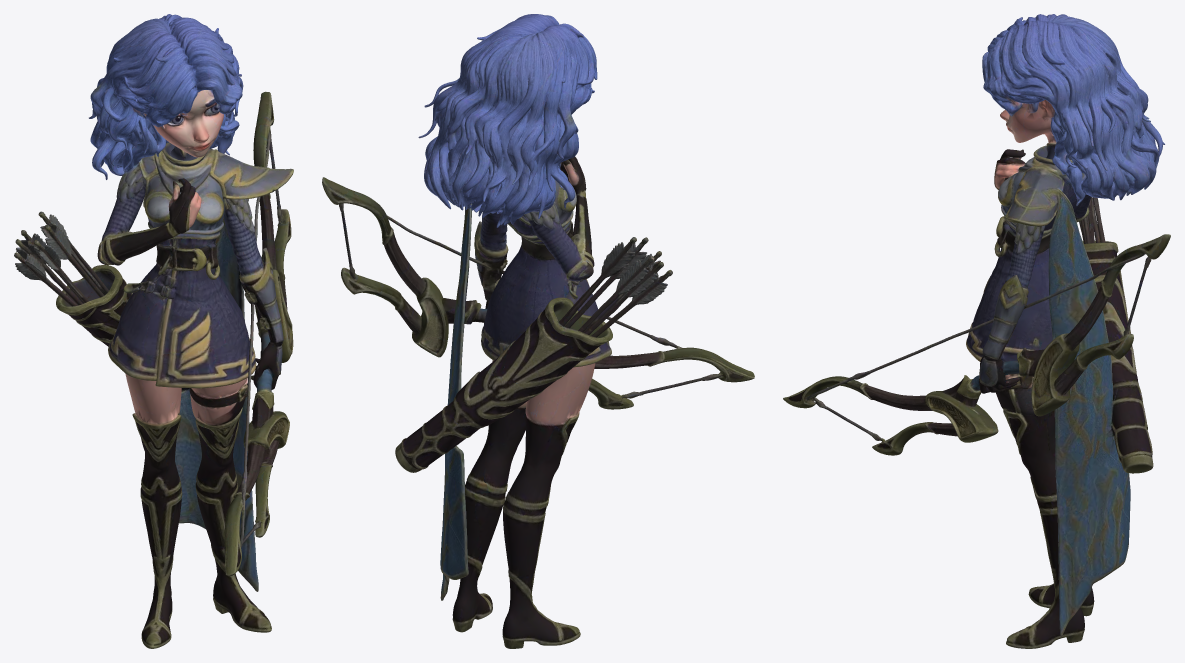
File: sibyl.glb
3 renders of one model, left to right at view 1: azimuth 30°, elevation 25°; view 2: azimuth 150°, elevation 25°; view 3: azimuth 270°, elevation 25°, orthographic. The views are drawn at different scales.
Visible parts, largest first — view 1: Mesh_0; view 2: Mesh_0; view 3: Mesh_0.
Boxes of the visible parts, bbox=[...] form: Mesh_0: bbox=[14, 14, 293, 648]; Mesh_0: bbox=[322, 14, 754, 648]; Mesh_0: bbox=[783, 14, 1170, 648].
Bounding box in the file's own units: 0.9848 × 1.9 × 1.13.
Materials: 1 (1 with a texture image).
